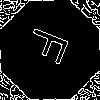F: (25, 25, 79, 70)
